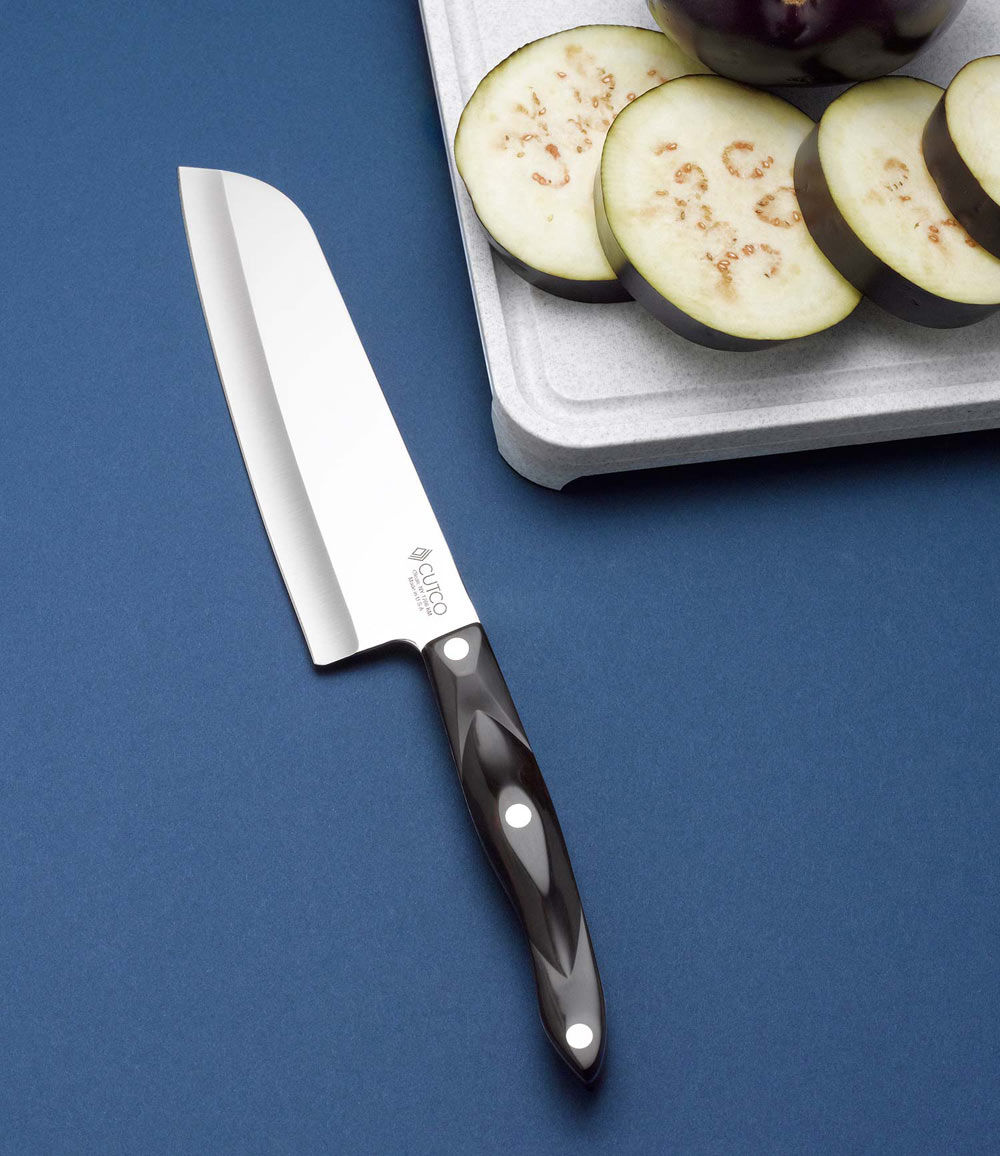knife: (172, 161, 602, 1078)
